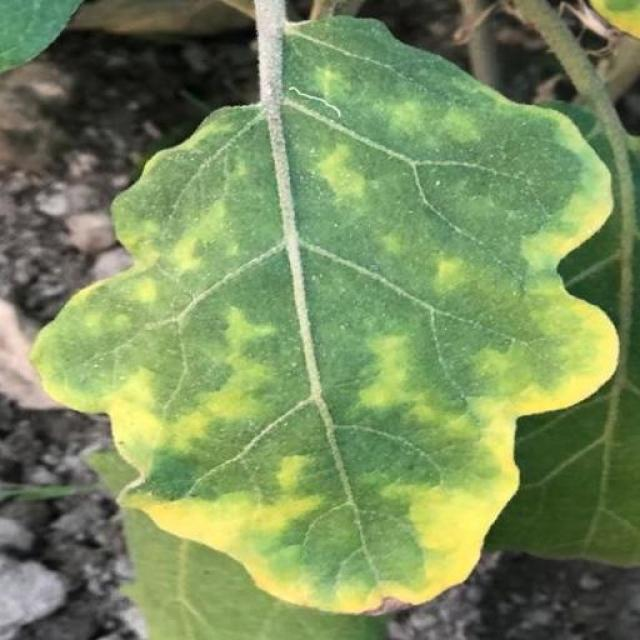leaf_spot: (391, 473, 497, 579), (264, 550, 412, 618), (142, 477, 281, 548), (531, 302, 621, 399), (360, 336, 443, 441), (212, 307, 282, 404), (74, 382, 166, 446), (452, 381, 530, 456), (264, 440, 339, 516), (309, 135, 379, 206), (457, 93, 508, 176), (183, 402, 260, 456), (166, 206, 230, 270), (468, 354, 544, 402), (435, 250, 490, 315), (560, 174, 616, 236), (521, 216, 584, 269), (122, 213, 164, 289), (538, 109, 587, 167), (293, 58, 353, 100), (93, 298, 145, 334), (380, 100, 432, 134), (380, 236, 418, 262)
